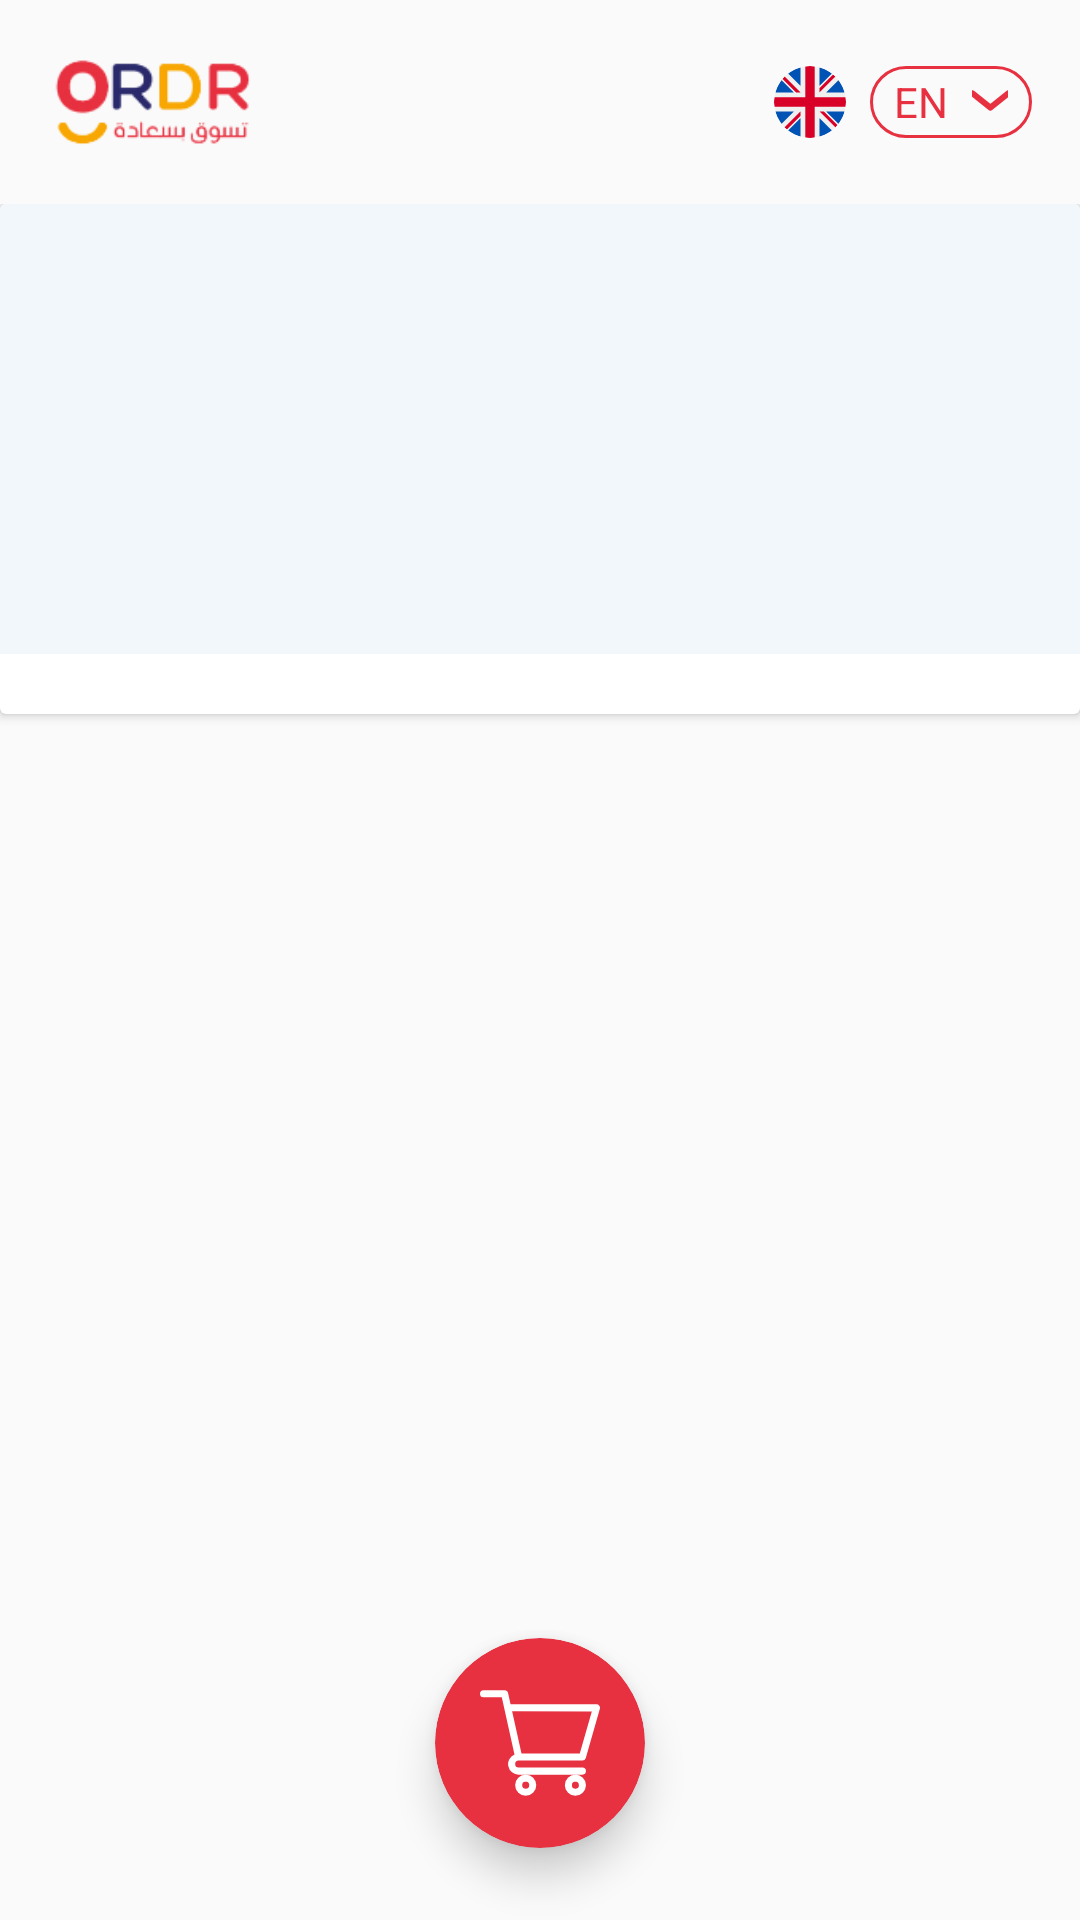

Icons on this 1080*1920 Android screen, each with its box as (x1, y1, x2, y2):
arrow down: (972, 90, 1008, 111)
Cart: (480, 1690, 600, 1796)
uk language: (774, 66, 846, 138)
